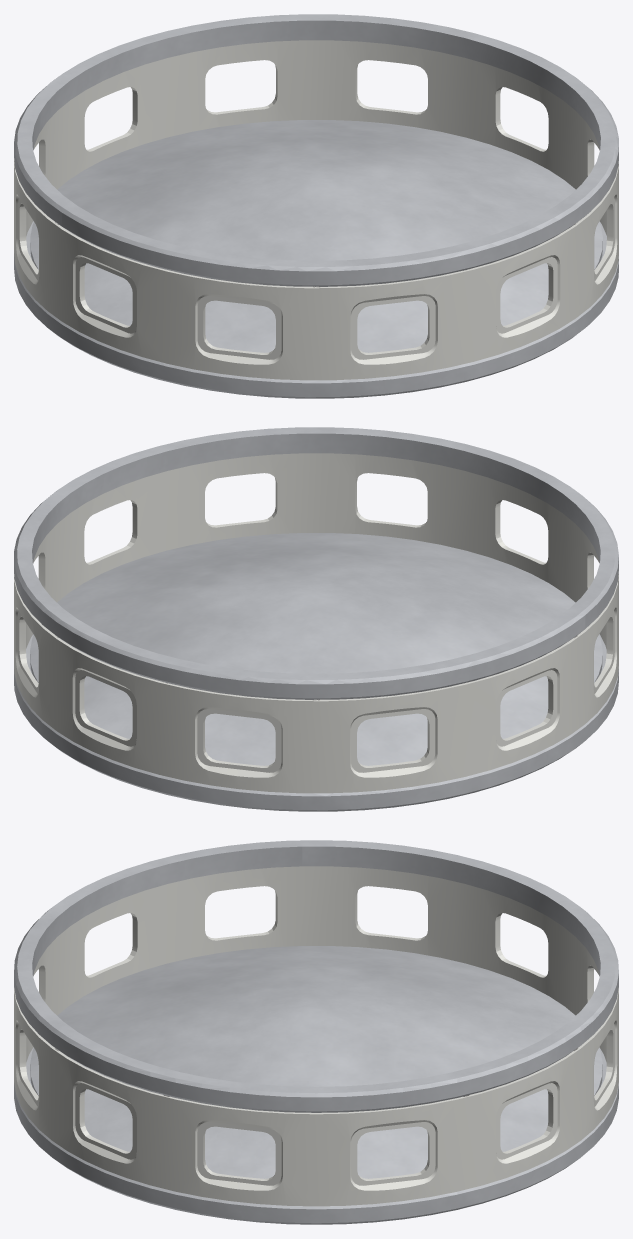
The model's file is ax_struct_07_hot_staging_ring_l.glb.
The picture shows the model from 3 angles, top to bottom: view 1: azimuth 30°, elevation 25°; view 2: azimuth 150°, elevation 25°; view 3: azimuth 270°, elevation 25°; orthographic projection.
Parts seen in each view (by area): view 1: vented_barrel, blast_deflector, interface_rings; view 2: vented_barrel, blast_deflector, interface_rings; view 3: vented_barrel, blast_deflector, interface_rings.
Boxes of the visible parts, <box> form: vented_barrel: <box>14,40,618,380</box>; blast_deflector: <box>30,120,602,352</box>; interface_rings: <box>14,14,618,398</box>; vented_barrel: <box>14,453,618,793</box>; blast_deflector: <box>30,533,602,765</box>; interface_rings: <box>14,427,618,811</box>; vented_barrel: <box>14,866,618,1206</box>; blast_deflector: <box>30,946,602,1178</box>; interface_rings: <box>14,840,618,1224</box>.
Size of the model in its own units: 3.75 by 0.9 by 3.75.
Materials: 3 (2 with a texture image).
